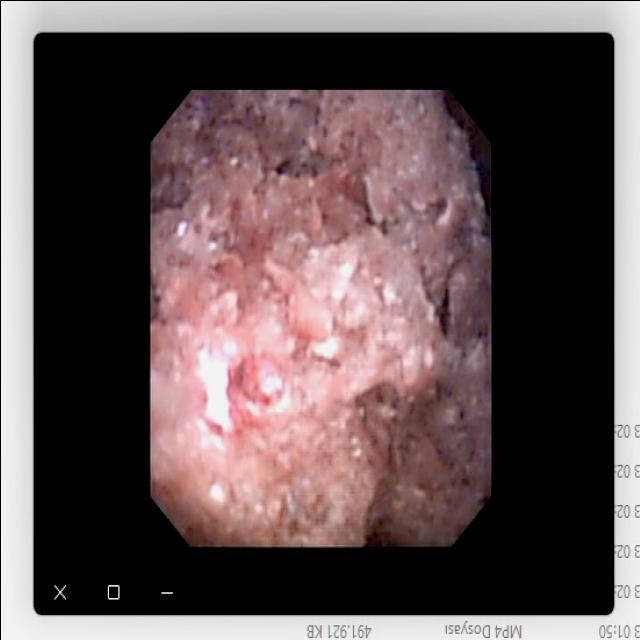stone: (159, 92, 486, 541)
